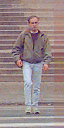person: (12, 15, 54, 110)
